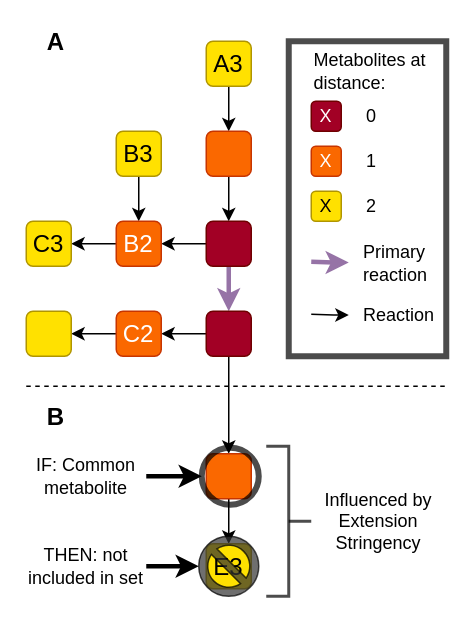
This 476x623 diagram has some shape labels left out. The box of each missing label's shape, as (x1, y1, x2, y2) in pixels:
A1: (205, 220, 251, 266)
A2: (205, 130, 251, 176)
B1: (205, 310, 251, 356)
D2: (205, 452, 251, 499)
D3: (25, 310, 71, 356)
